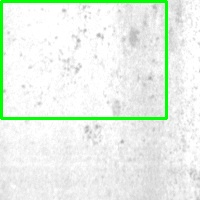pitted_surface: (1, 1, 166, 118)
